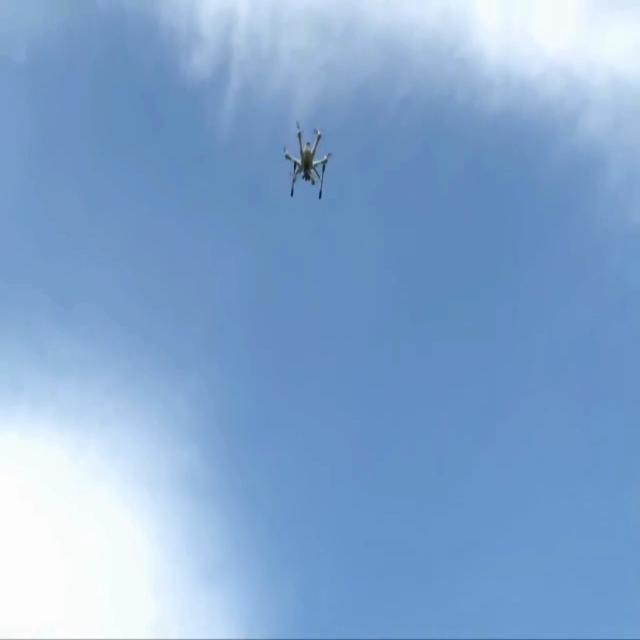drone: (283, 119, 332, 200)
